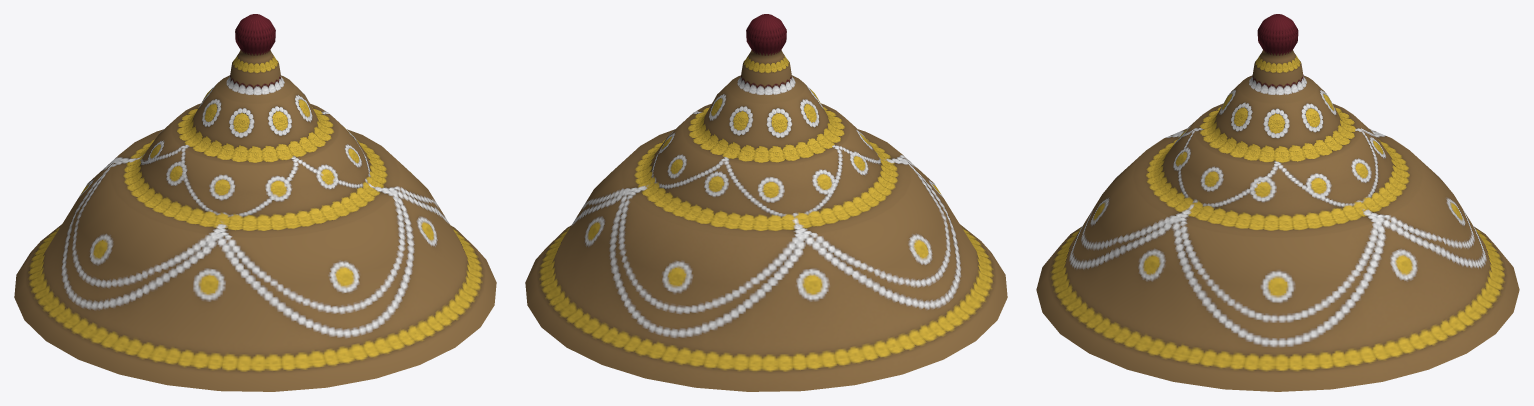
The picture shows the model from 3 angles, left to right: view 1: azimuth 30°, elevation 25°; view 2: azimuth 150°, elevation 25°; view 3: azimuth 270°, elevation 25°; orthographic projection.
Parts seen in each view (by area): view 1: Low; view 2: Low; view 3: Low.
Part boxes in pixels (x1=…): Low: x1=14, y1=14, x2=496, y2=391; Low: x1=525, y1=14, x2=1007, y2=391; Low: x1=1036, y1=14, x2=1519, y2=391.
Bounding box in the file's own units: 200 × 125 × 200.
Materials: 1 (1 with a texture image).
